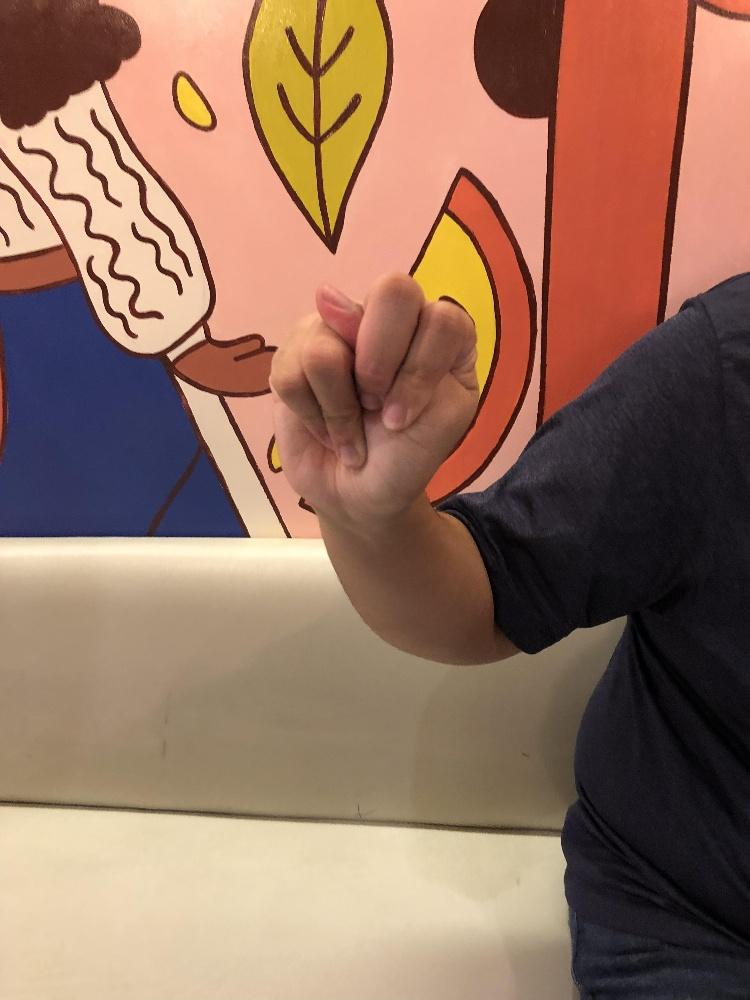n: (268, 269, 481, 517)
